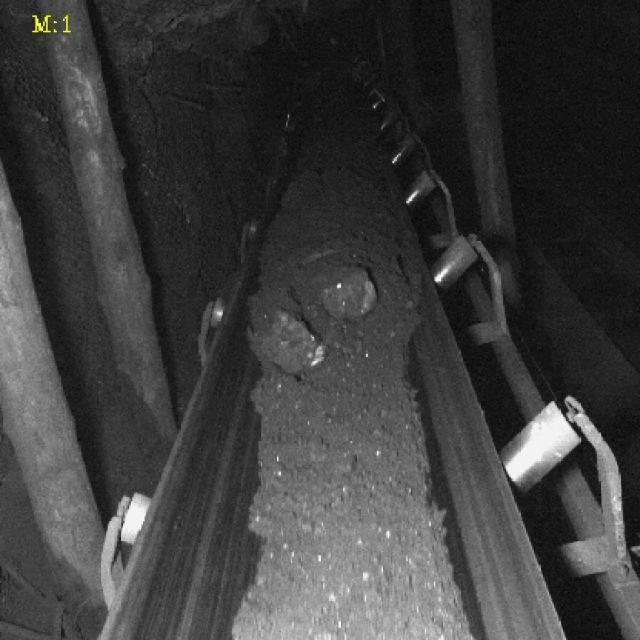large_sized_coal: (252, 303, 322, 371), (314, 268, 380, 323)
